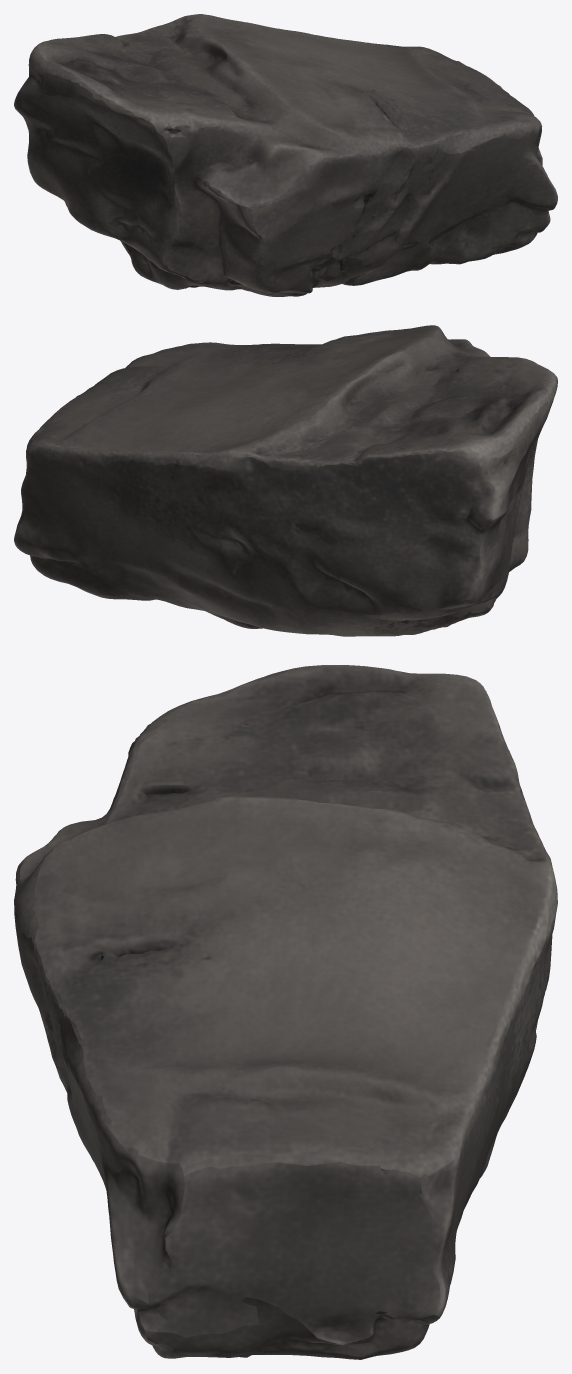
The picture shows the model from 3 angles, top to bottom: view 1: azimuth 30°, elevation 25°; view 2: azimuth 150°, elevation 25°; view 3: azimuth 270°, elevation 25°; orthographic projection. The views are drawn at different scales.
Parts seen in each view (by area): view 1: world; view 2: world; view 3: world.
Boxes of the visible parts, x1=… form: world: x1=14, y1=14, x2=557, y2=296; world: x1=14, y1=325, x2=557, y2=636; world: x1=14, y1=665, x2=557, y2=1359.
Bounding box in the file's own units: 3.5 × 1.78 × 2.32.
Materials: 1 (1 with a texture image).
